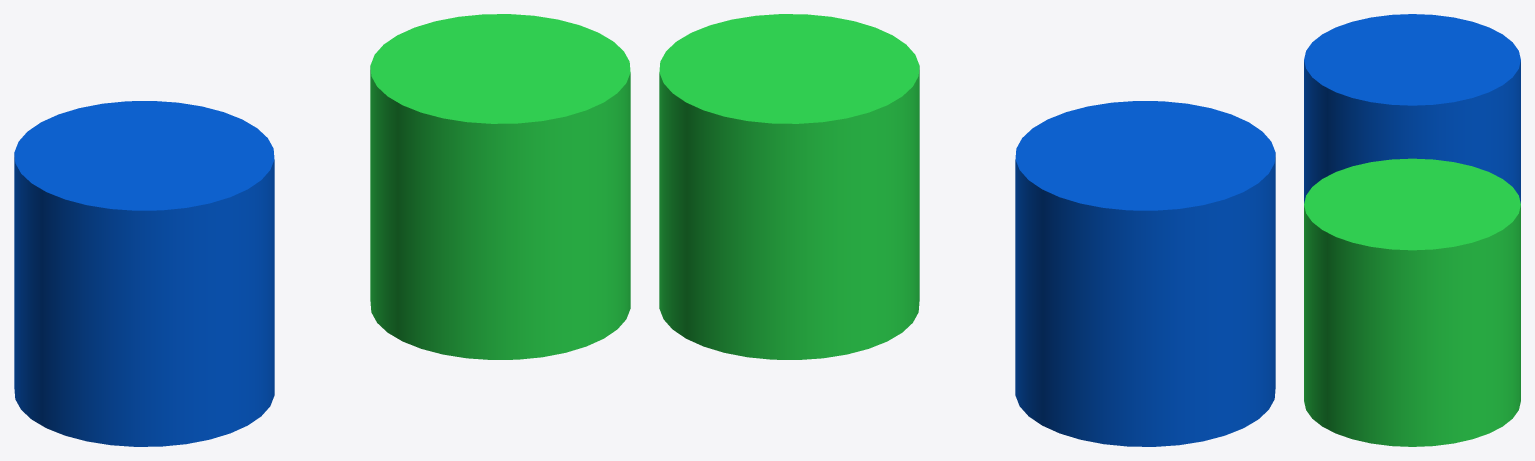
File: cyliner with texture.glb
The picture shows the model from 3 angles, left to right: view 1: azimuth 30°, elevation 25°; view 2: azimuth 150°, elevation 25°; view 3: azimuth 270°, elevation 25°; orthographic projection. The views are drawn at different scales.
Parts seen in each view (by area): view 1: Cylinder, Cylinder.001; view 2: Cylinder, Cylinder.001; view 3: Cylinder, Cylinder.001.
Part boxes in pixels (x1,y1,x2,y2): Cylinder: [370, 14, 630, 359]; Cylinder.001: [14, 101, 274, 446]; Cylinder: [659, 14, 919, 359]; Cylinder.001: [1015, 101, 1275, 446]; Cylinder: [1304, 158, 1520, 446]; Cylinder.001: [1304, 14, 1520, 203].
Size of the model in its own units: 5.15 by 2 by 2.
